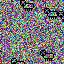sheep: (44, 8, 58, 19), (41, 50, 54, 61), (20, 0, 34, 10), (11, 58, 25, 64), (58, 11, 64, 22)
